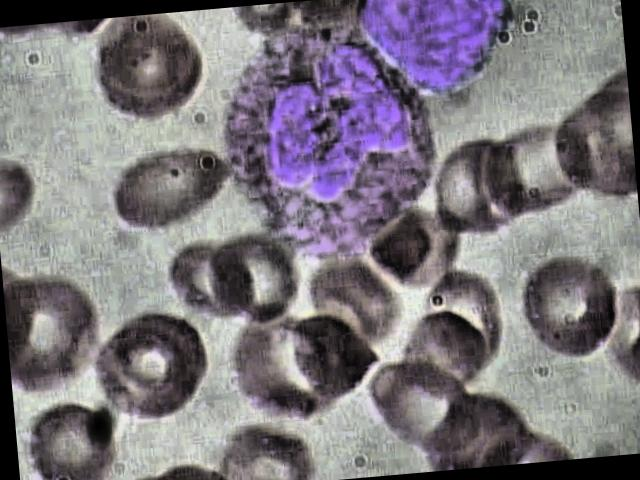RBC: (105, 130, 238, 247), (86, 9, 218, 126), (474, 112, 603, 227), (512, 252, 628, 369), (386, 298, 499, 412), (88, 319, 203, 427), (426, 134, 541, 242), (206, 233, 306, 336), (16, 392, 124, 480), (164, 236, 259, 328)
WBC: (218, 12, 462, 272), (349, 0, 526, 103)
